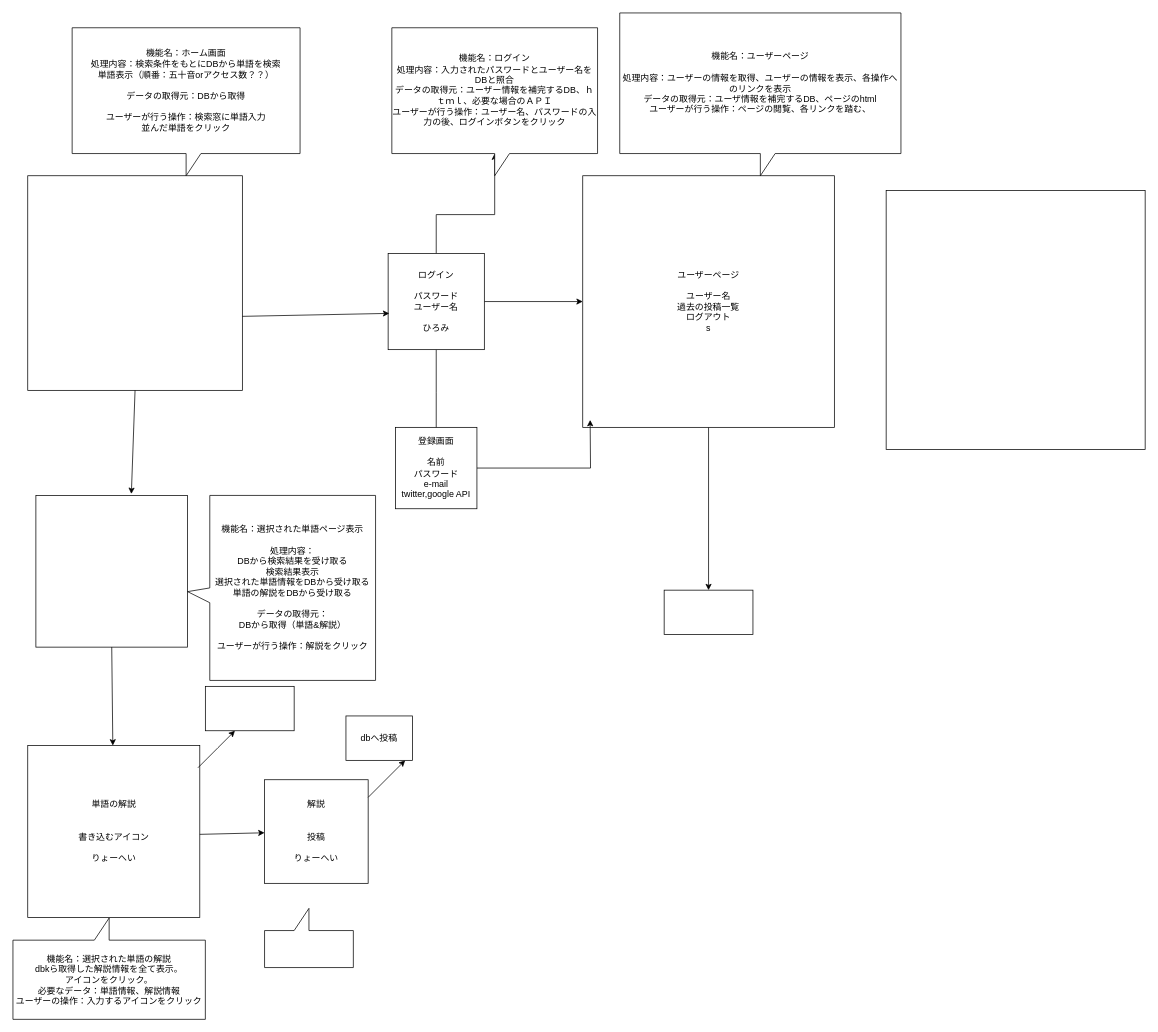
The diagram is 1158 pixels wide and 1032 high, and some of its shapes have lost their labels. The shapes that lost their labels are listed below. From the top down, each one's centre as x and y in pixels, then its label:
At [134,282]: "ホーム画面 検索窓 単語がずらり ひらまつ".
At [1015,320]: "機能名 処理内容 処理に必要なデータ データの取得元 ユーザーが行い操作".
At [111,571]: "単語 解説 解説 解説 ひらまつ".
At [708,612]: "ログインした状態".
At [249,708]: "dbへ検索".
